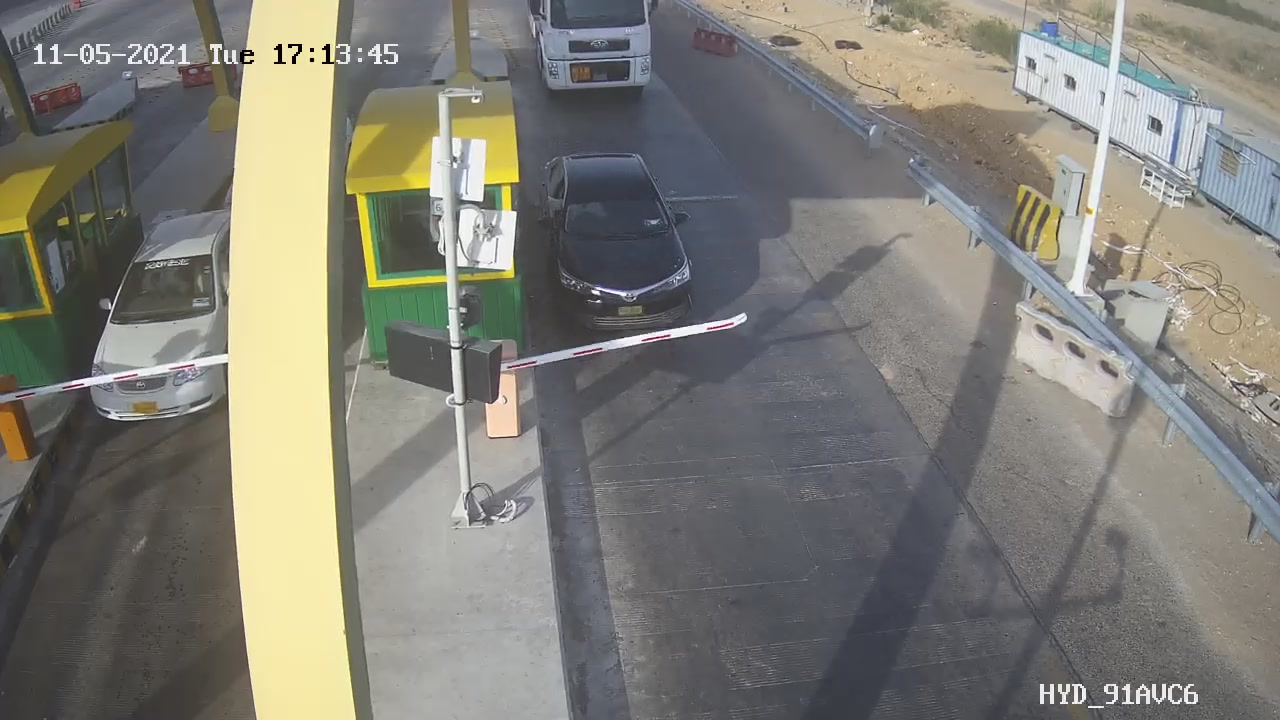F1: (521, 133, 714, 361)
